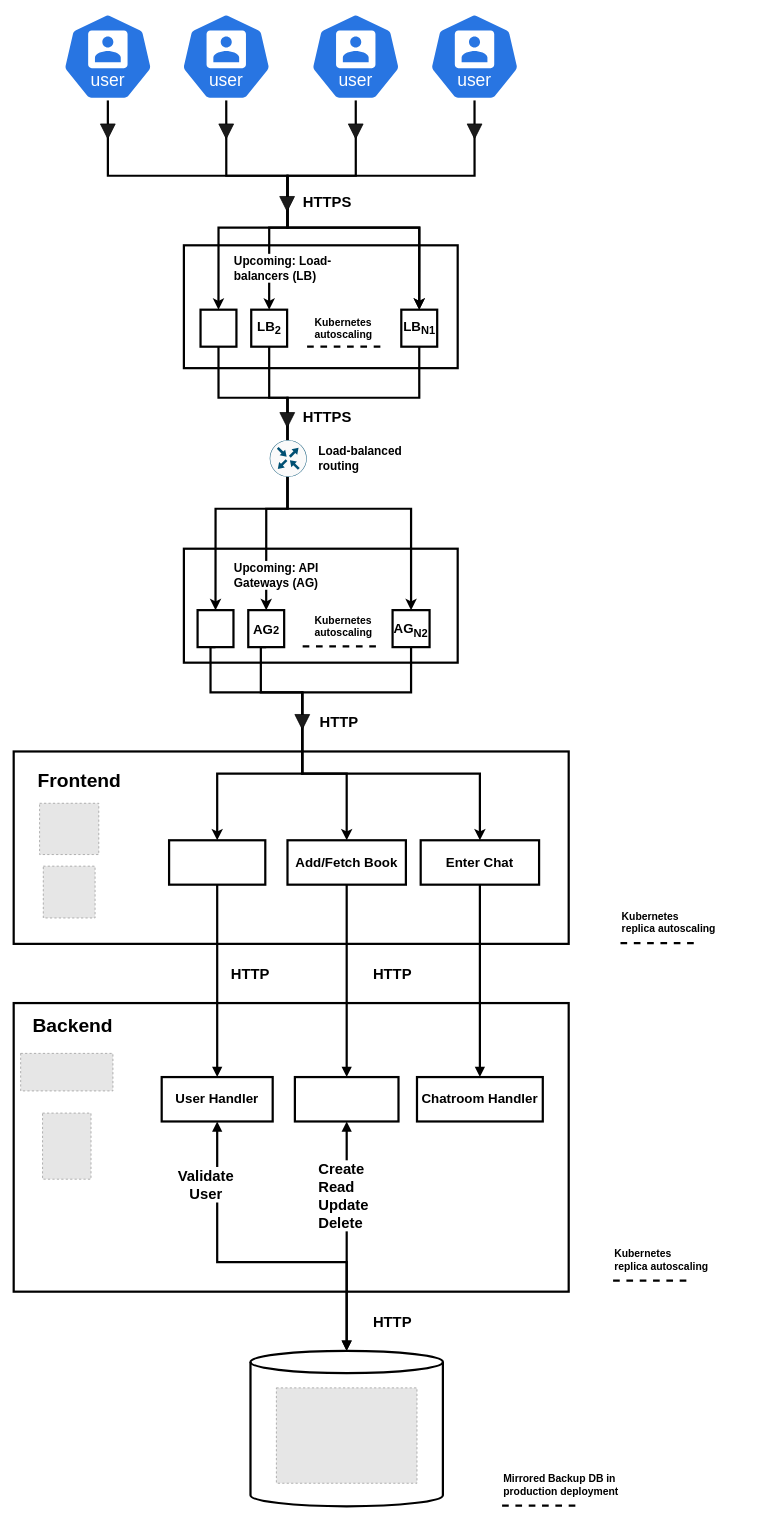
This 759x1520 diagram has some shape labels left out. Grey dashed boxes stand in for pictures. The shapes that lost their labels are listed below. From the top down, each one's centre as x and y in pixels, then its label:
At pixel 218 327: "LB 1".
At pixel 215 628: "AG 1".
At pixel 217 862: "Login Handler".
At pixel 346 1099: "CRUD Handler".
